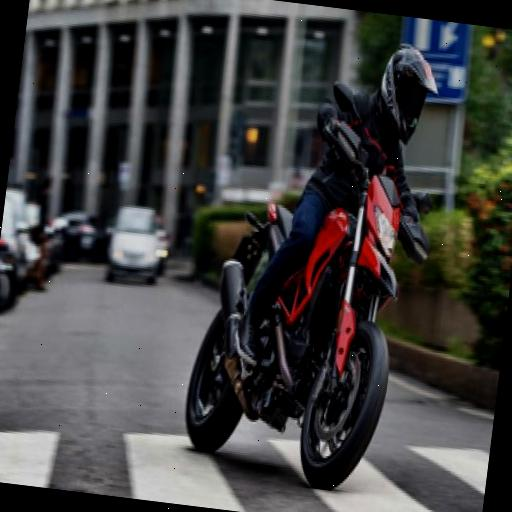helmet: (232, 8, 466, 486)
